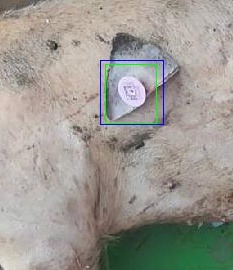text: (105, 64, 156, 123)
